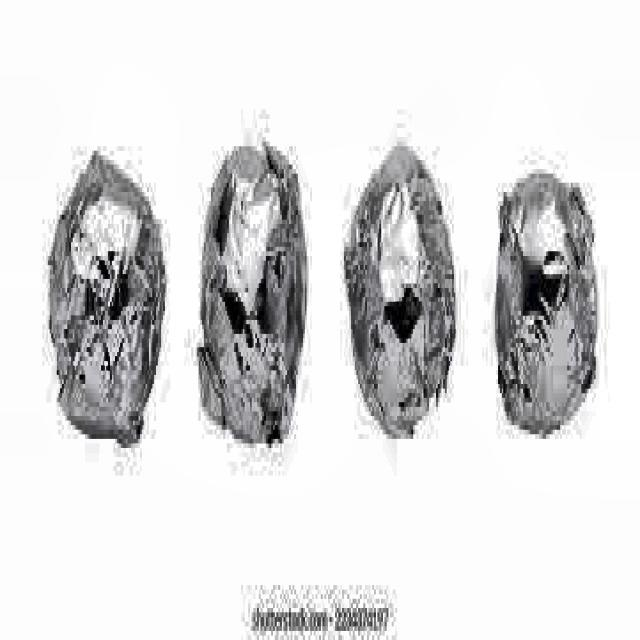Foil: (188, 106, 320, 499), (338, 104, 468, 496), (42, 117, 170, 488), (488, 117, 606, 498)
